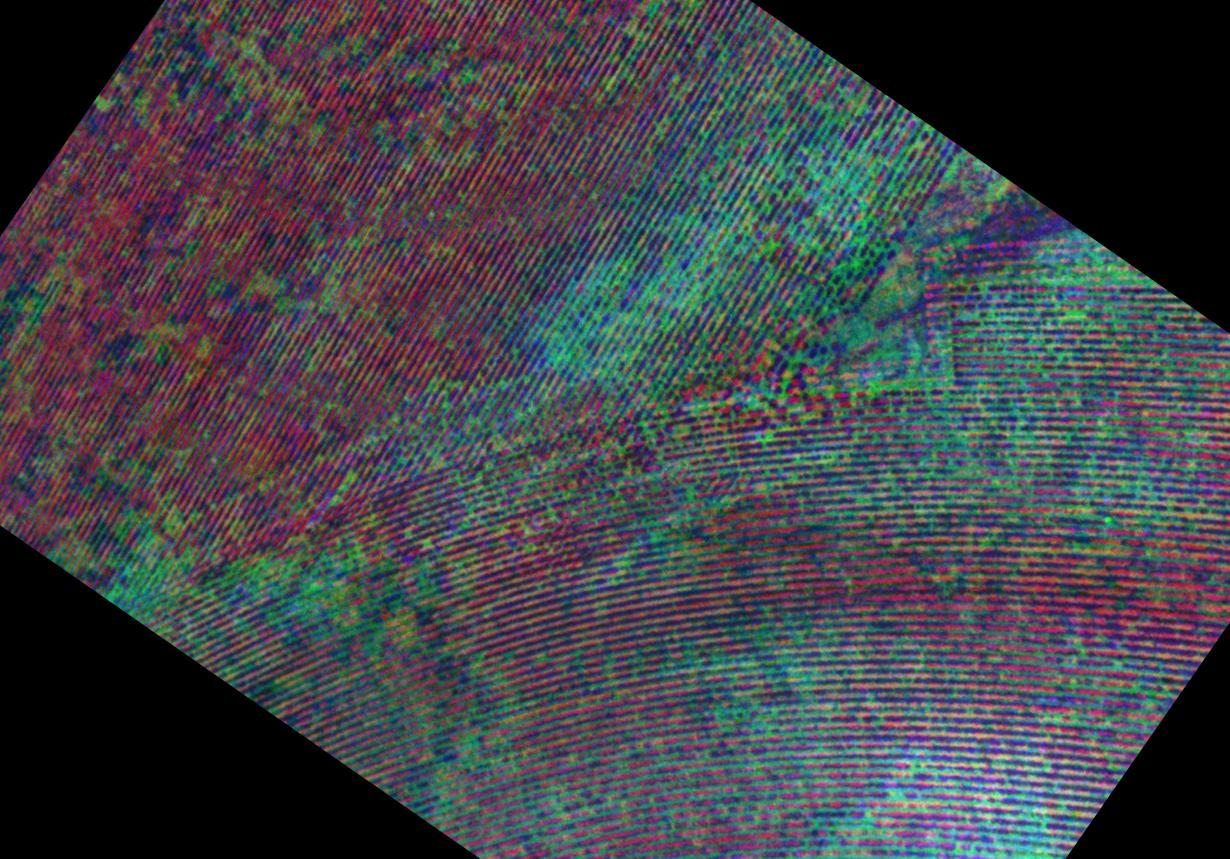dc: (851, 328, 948, 394), (676, 200, 743, 294), (546, 290, 623, 362), (431, 748, 507, 818), (781, 175, 855, 246), (111, 555, 167, 620)
